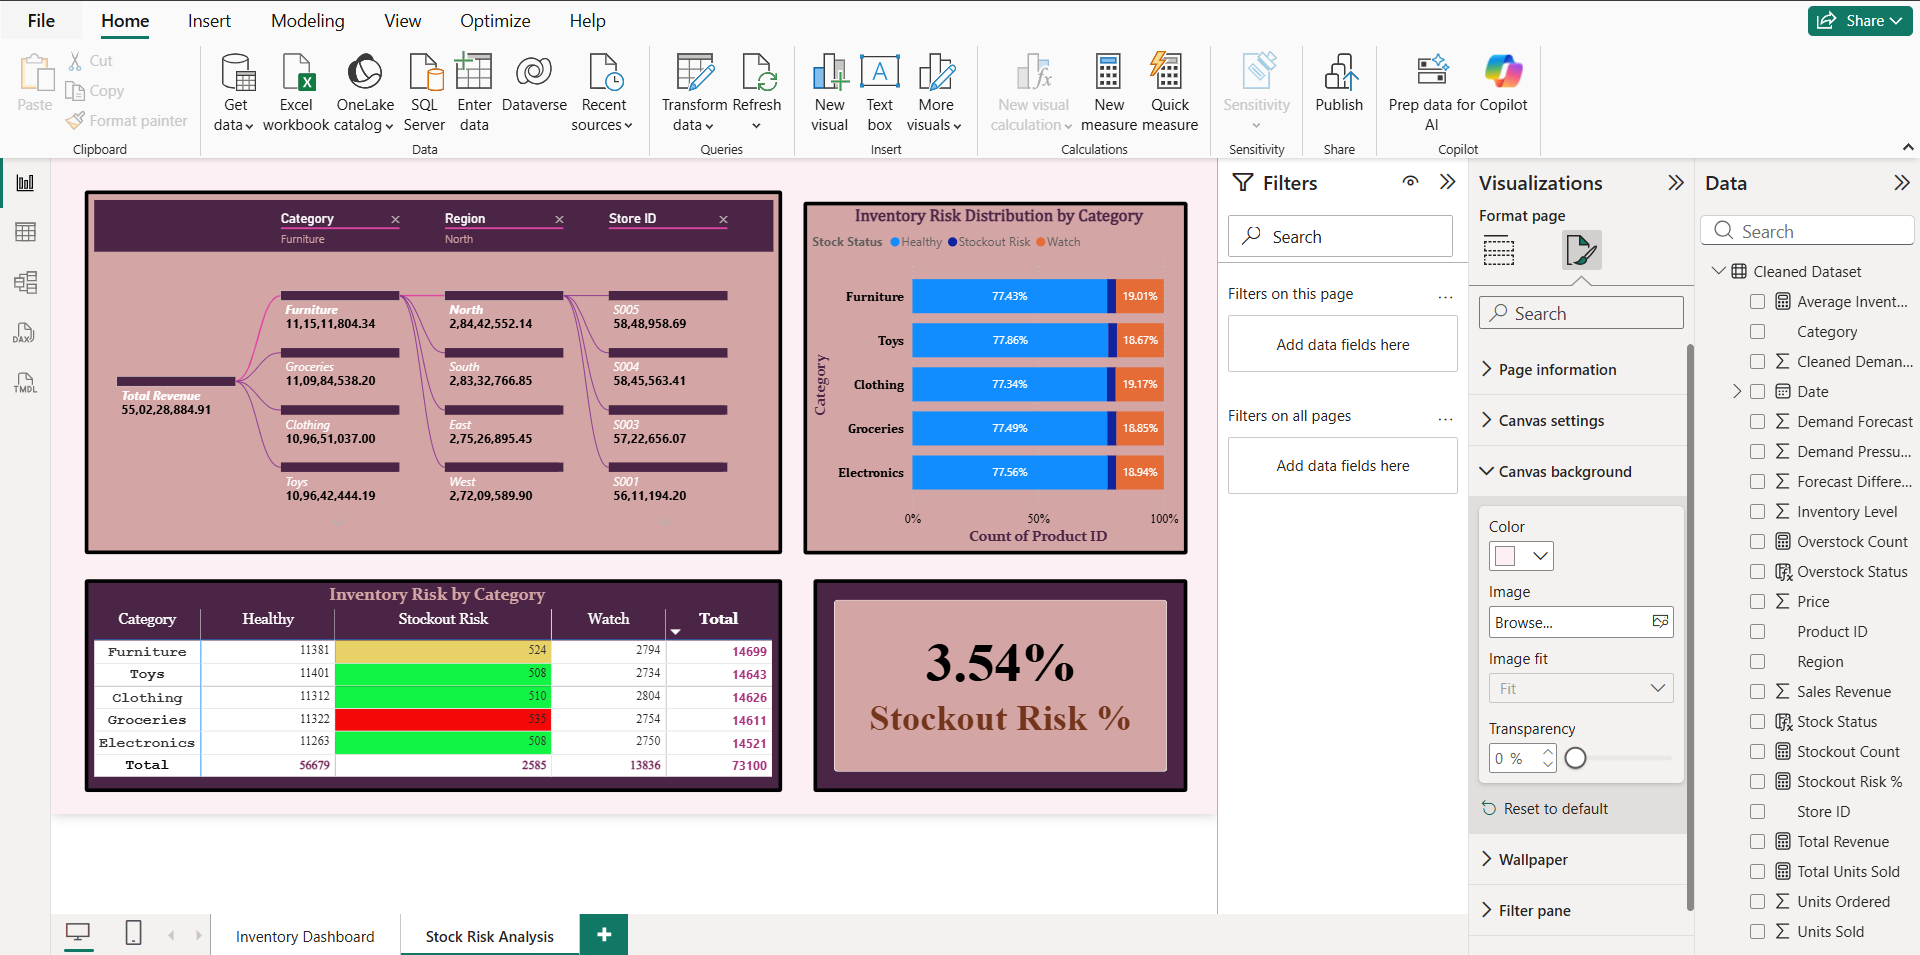

This screenshot's page, from the dashboard's own definition file:
{"tool":"powerbi","page":{"name":"Stock Risk Analysis","canvas":[1280,720],"ordinal":1},"visuals":[{"type":"decompositionTreeVisual","fields":{"Analyze":["Cleaned Dataset.Total Revenue"],"ExplainBy":["Cleaned Dataset.Category","Cleaned Dataset.Region","Cleaned Dataset.Store ID"]},"box":[37,35.7,765.7,399.3],"z":0},{"type":"pivotTable","title":"Inventory Risk by Category","fields":{"Rows":["Cleaned Dataset.Category"],"Columns":["Cleaned Dataset.Stock Status"],"Values":["CountNonNull(Cleaned Dataset.Product ID)"]},"box":[37,462.4,765.7,233.3],"z":1000},{"type":"hundredPercentStackedBarChart","title":"Inventory Risk Distribution by Category","fields":{"Category":["Cleaned Dataset.Category"],"Y":["CountNonNull(Cleaned Dataset.Product ID)"],"Series":["Cleaned Dataset.Stock Status"]},"box":[826.1,48,421.3,387],"z":6000},{"type":"cardVisual","fields":{"Data":["Cleaned Dataset.Stockout Risk %"]},"box":[837.1,462.4,410.3,233.3],"z":7000}]}

Visuals, with their boxes on the page's 1280x720 design canvas (x1, y1, x2, y2). These are canvas units, not pixel positions in the 1920x955 screenshot, which may show the page scaled, cropped or inside an application window:
decompositionTreeVisual - Cleaned Dataset.Total Revenue x Cleaned Dataset.Category: detection(37, 36, 803, 435)
"Inventory Risk by Category" pivotTable: detection(37, 462, 803, 696)
"Inventory Risk Distribution by Category" hundredPercentStackedBarChart: detection(826, 48, 1247, 435)
cardVisual - Cleaned Dataset.Stockout Risk %: detection(837, 462, 1247, 696)
